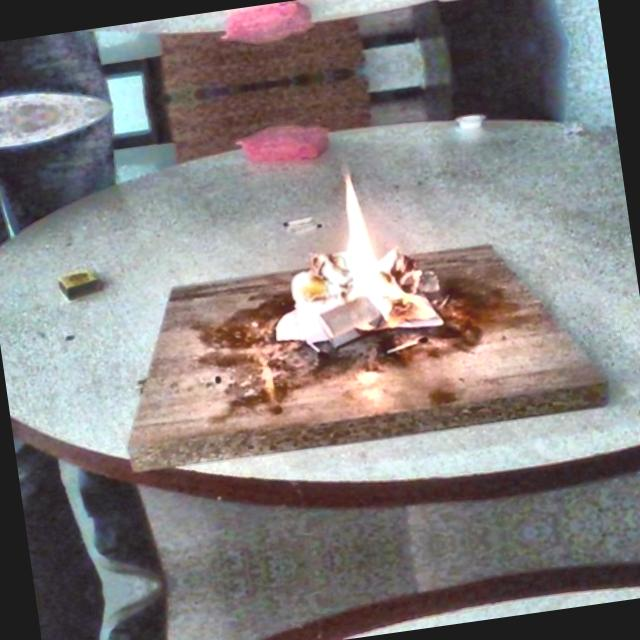fire: (249, 133, 445, 393)
